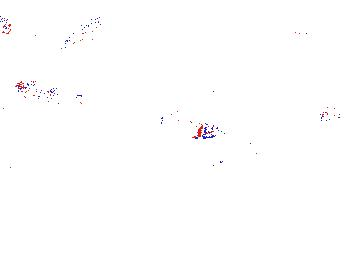X-ray fish: (239, 131, 289, 157), (311, 71, 346, 102), (318, 102, 346, 126)
glassfish: (158, 103, 229, 143)
red belly glassfish: (292, 27, 327, 41), (1, 17, 15, 35)
redtail glassfish: (15, 75, 85, 108), (55, 18, 103, 57)
